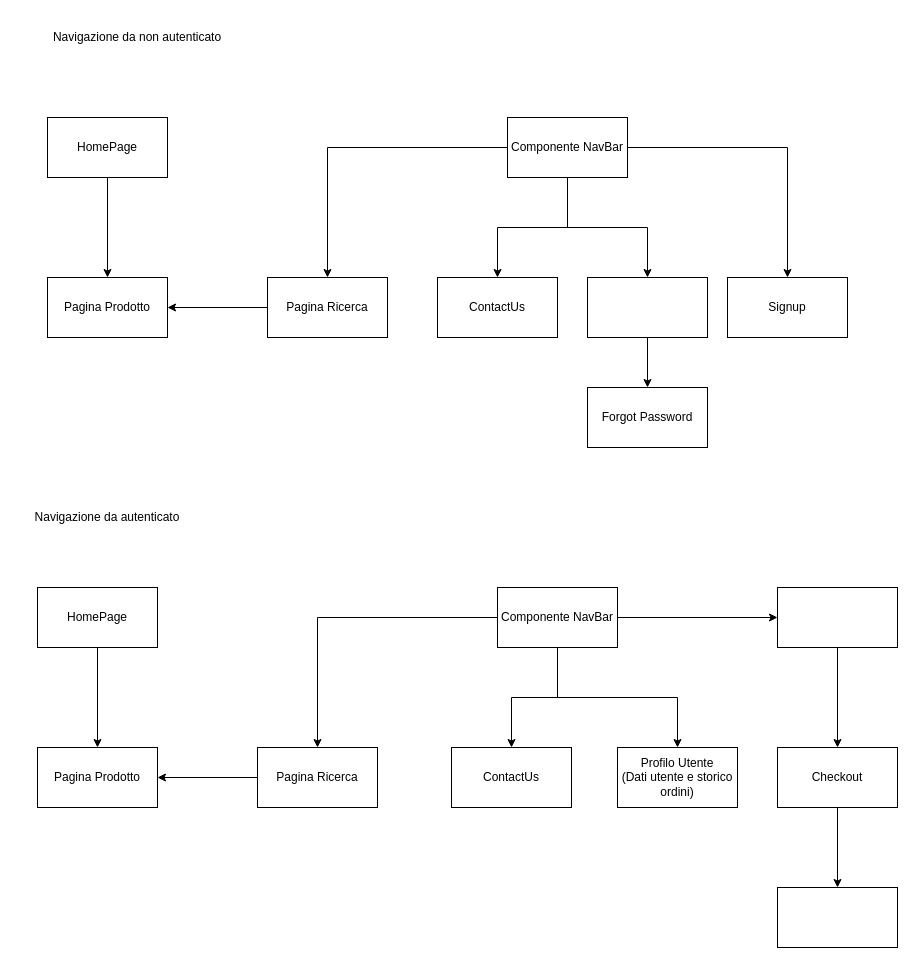
This 915x965 diagram has some shape labels left out. Here are the shapes that lost their labels. From the top down, the centre of each, then its label:
(647,307): Login
(837,617): Carrello
(837,917): Conferma Ordine
